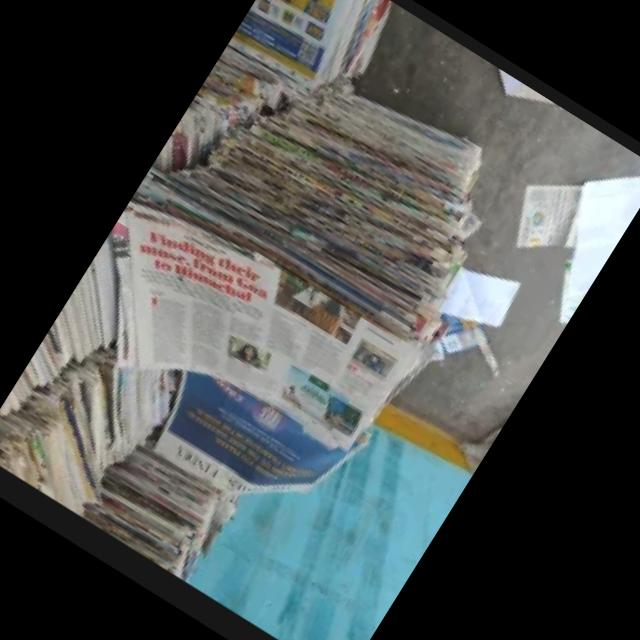Koran: (0, 0, 545, 631)
